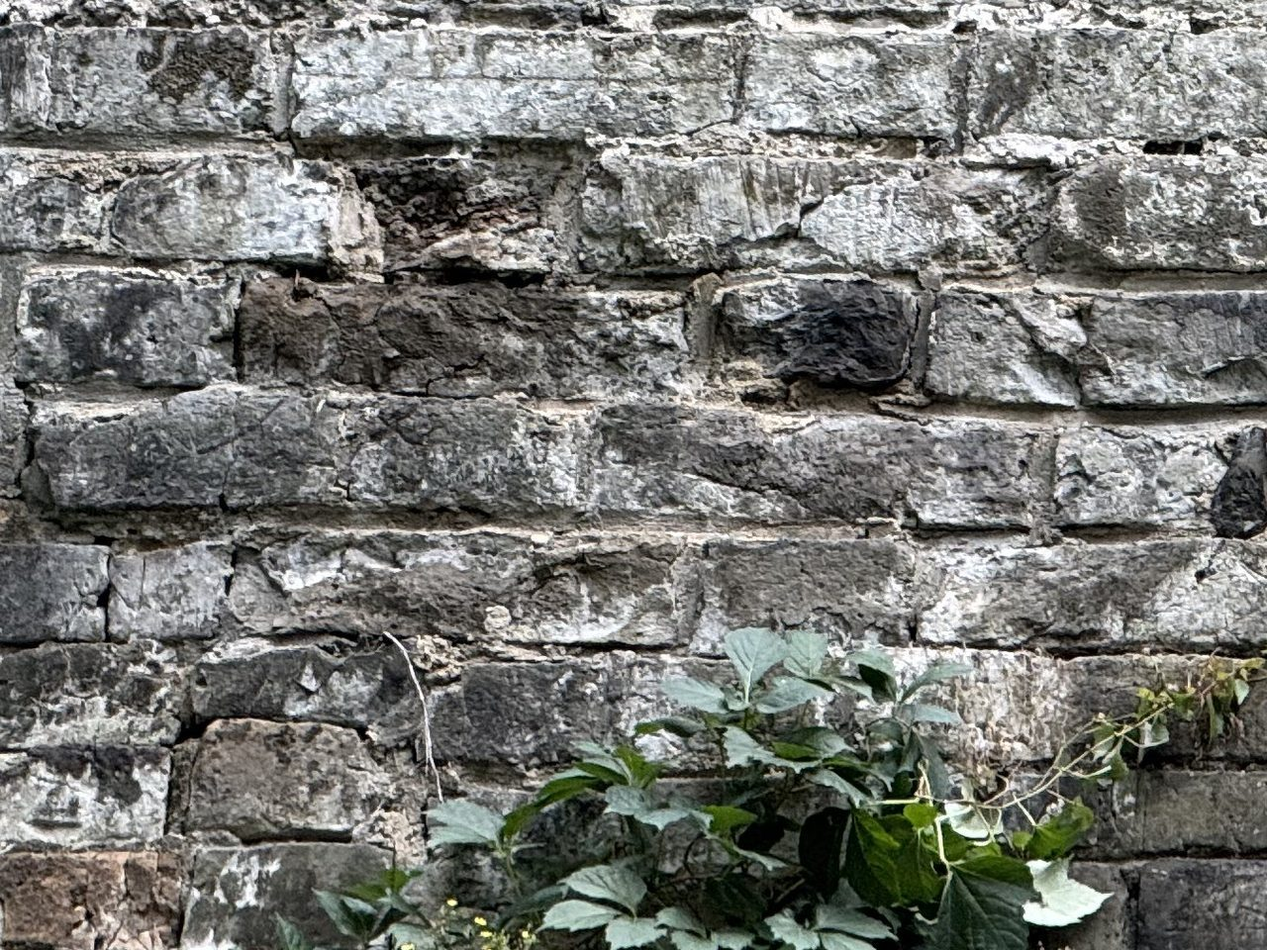brick_loss: (517, 766, 1121, 950), (332, 141, 598, 283)
vegetation: (423, 632, 1204, 950), (267, 848, 438, 950)
